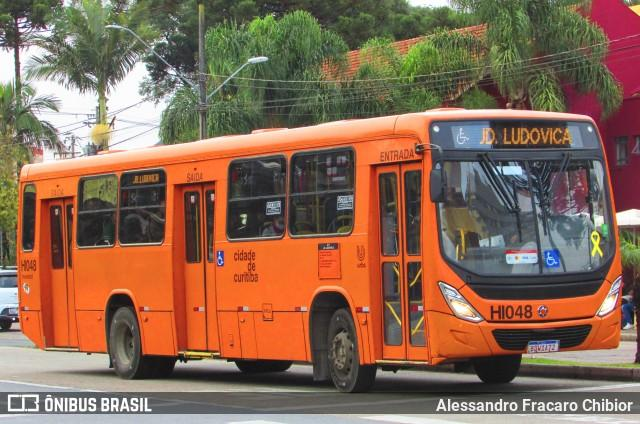JD LUDOVICA: (474, 124, 577, 148)
